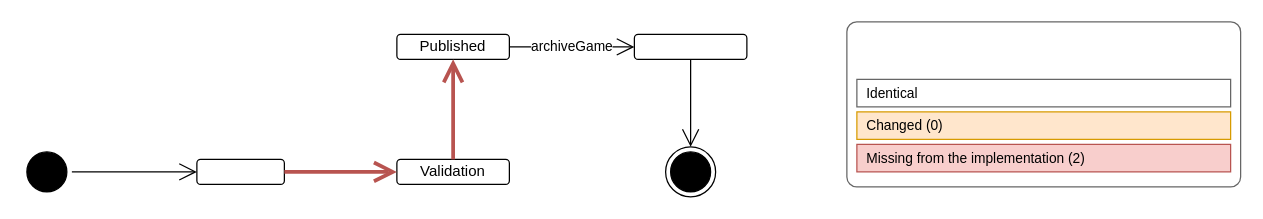
Image size: 1263x219. Some labels were removed from this diagram. Each missing label, with the box of its shape:
Archived: (633, 33, 747, 59)
DESIGN drawn by a person · diagrams/input/state-game.drawio: (846, 21, 1241, 187)
Draft: (196, 158, 284, 184)
